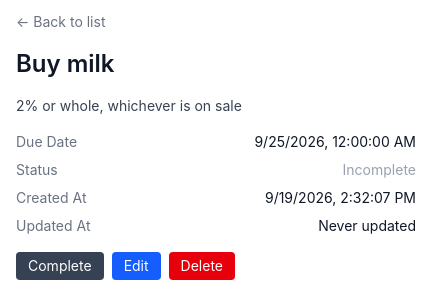
Test case: TodoDetailRoute › shows a Complete button for an incomplete todo and toggles it to Incomplete
This screenshot has width=433, height=297.
Check: the heading "Buy milk" is shown, box [16,49,114,78]
Step 1. Click the button "Complete" → (60,266), box [16,252,104,280]
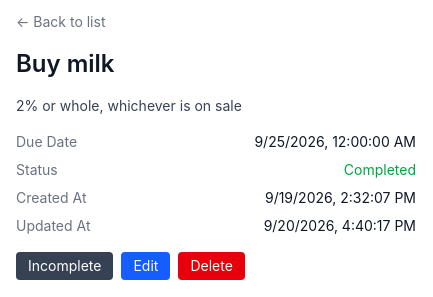
Check: the button "Incomplete" is shown, box [16,252,113,280]
Check: the text "Completed" is shown, box [344,160,416,180]
